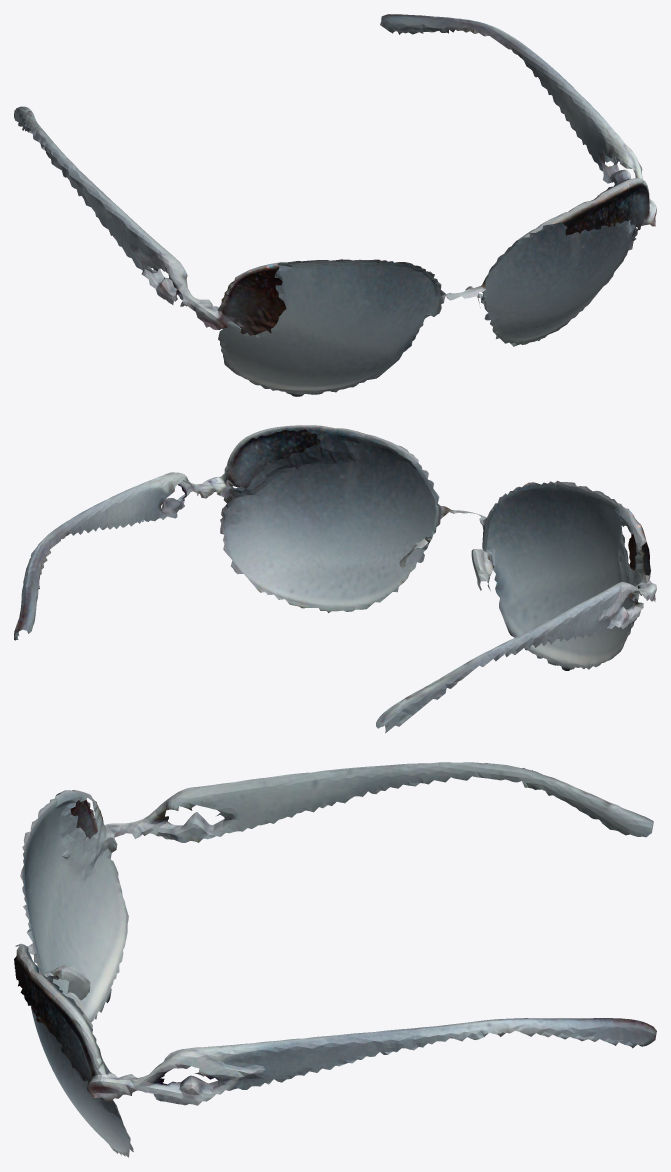
Rendered from scan_align.obj.
3 renders of one model, top to bottom at view 1: azimuth 30°, elevation 25°; view 2: azimuth 150°, elevation 25°; view 3: azimuth 270°, elevation 25°, orthographic. The views are drawn at different scales.
Size of the model in its own units: 0.1546 by 0.0502 by 0.1542.
1 material, 1 textured.
